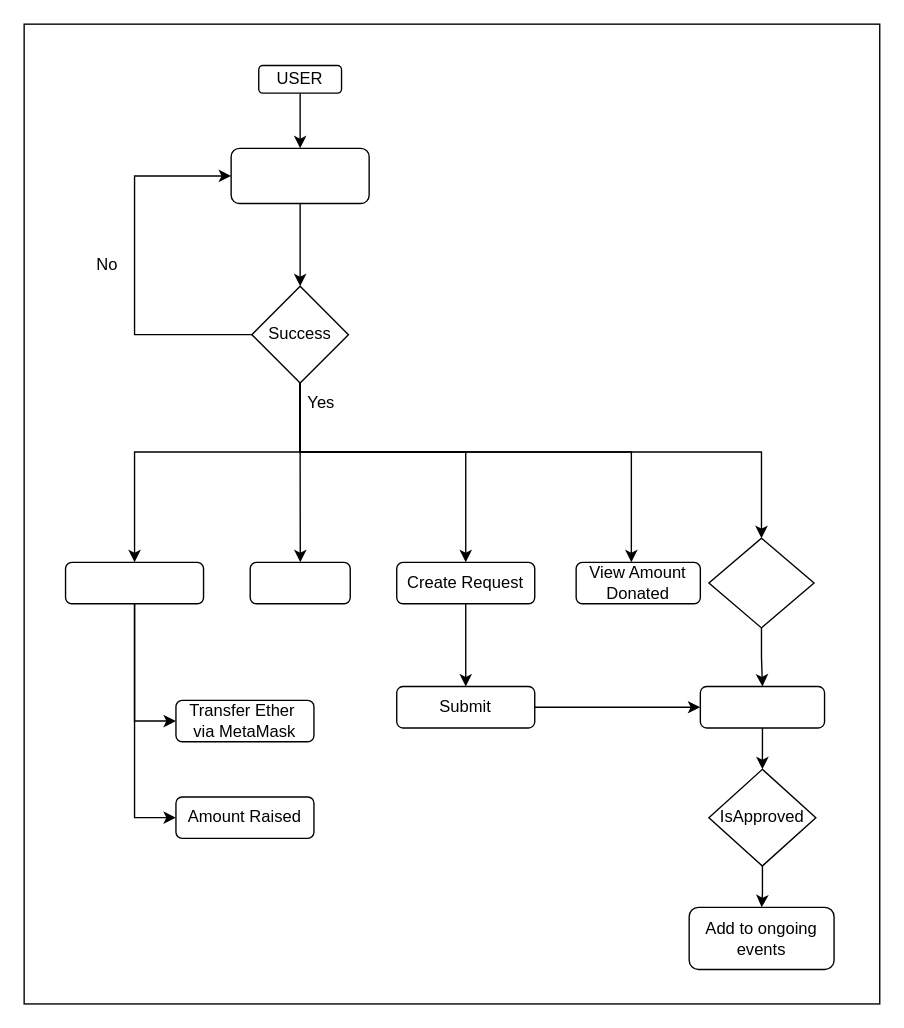
This 904x1028 diagram has some shape labels left out. Each missing label, with the centre of its shape:
Home: the point at 299,582
IsManager: the point at 761,582
Login through MetaMask: the point at 299,175
Ongoing Events: the point at 134,582
Pending Requests: the point at 762,706
